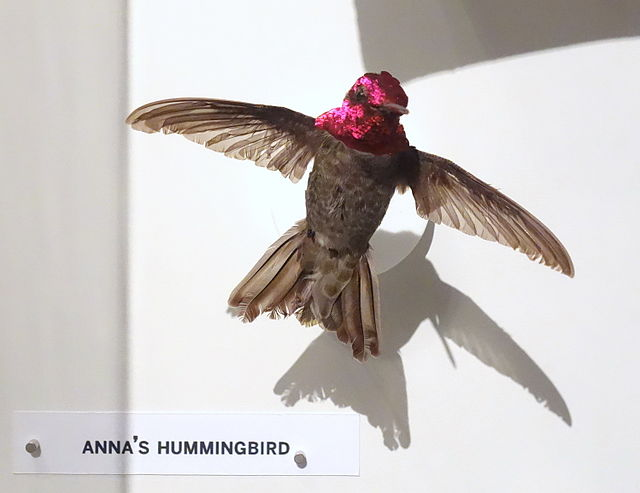calypte anna: (130, 65, 574, 358)
